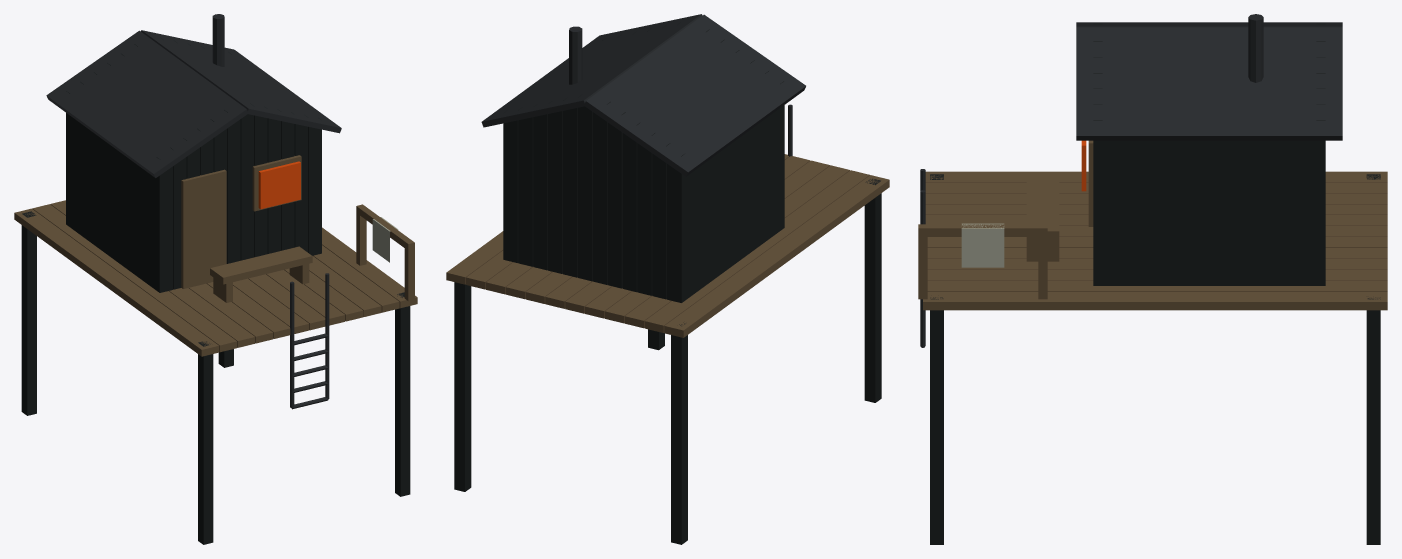
The model's file is badstue.glb.
3 views of the same model, side by side, from view 1: azimuth 30°, elevation 25°; view 2: azimuth 150°, elevation 25°; view 3: azimuth 270°, elevation 25° (orthographic). The views are drawn at different scales.
Visible parts, largest first — view 1: badstue; view 2: badstue; view 3: badstue.
Boxes of the visible parts, box(x1,y1,x2,y2) form: badstue: box(14, 14, 417, 544); badstue: box(446, 14, 889, 544); badstue: box(918, 14, 1387, 544).
Bounding box in the file's own units: 3.99 × 7 × 6.06.
